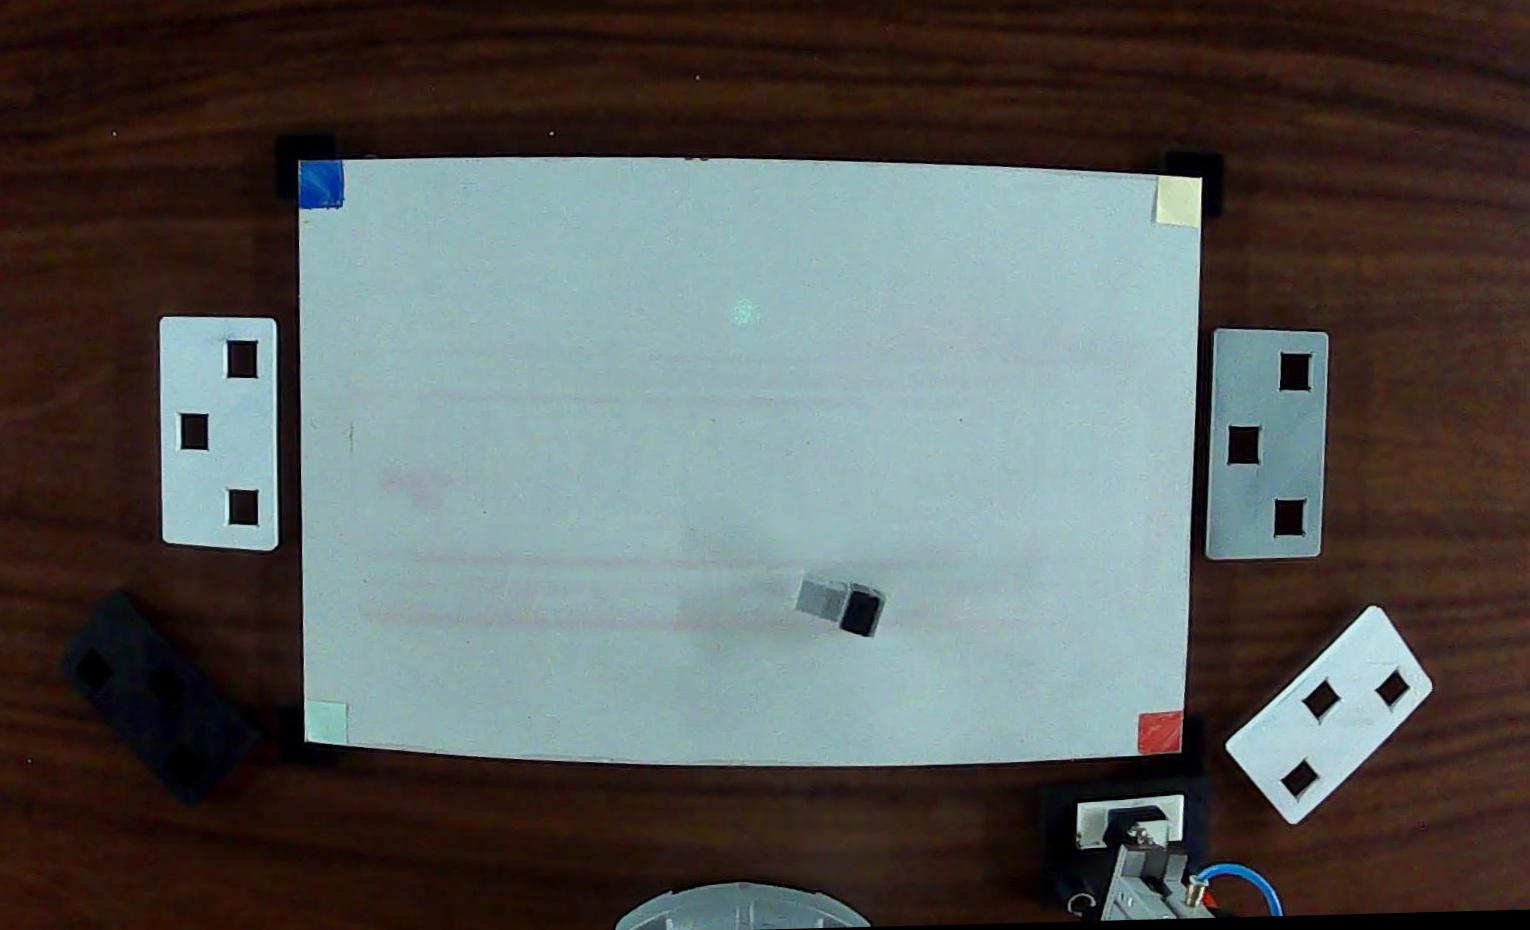pecaCinzaCaida: (791, 570, 890, 643)
